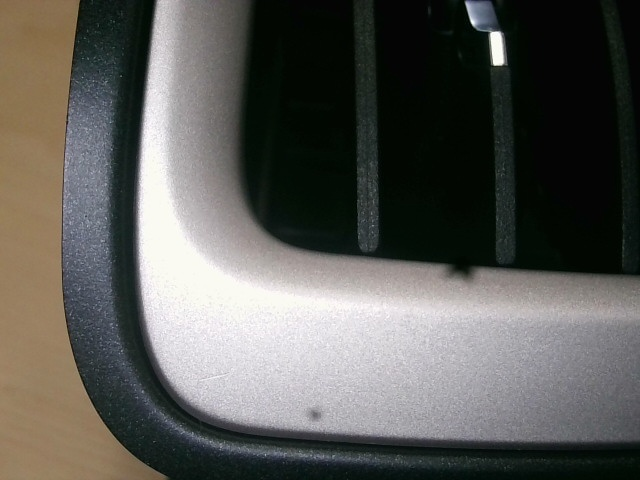NG: (197, 365, 233, 389)
